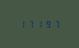nine: (42, 20, 49, 28)
one: (18, 20, 25, 28), (34, 20, 41, 28)
seven: (26, 20, 33, 28), (50, 20, 57, 28)
